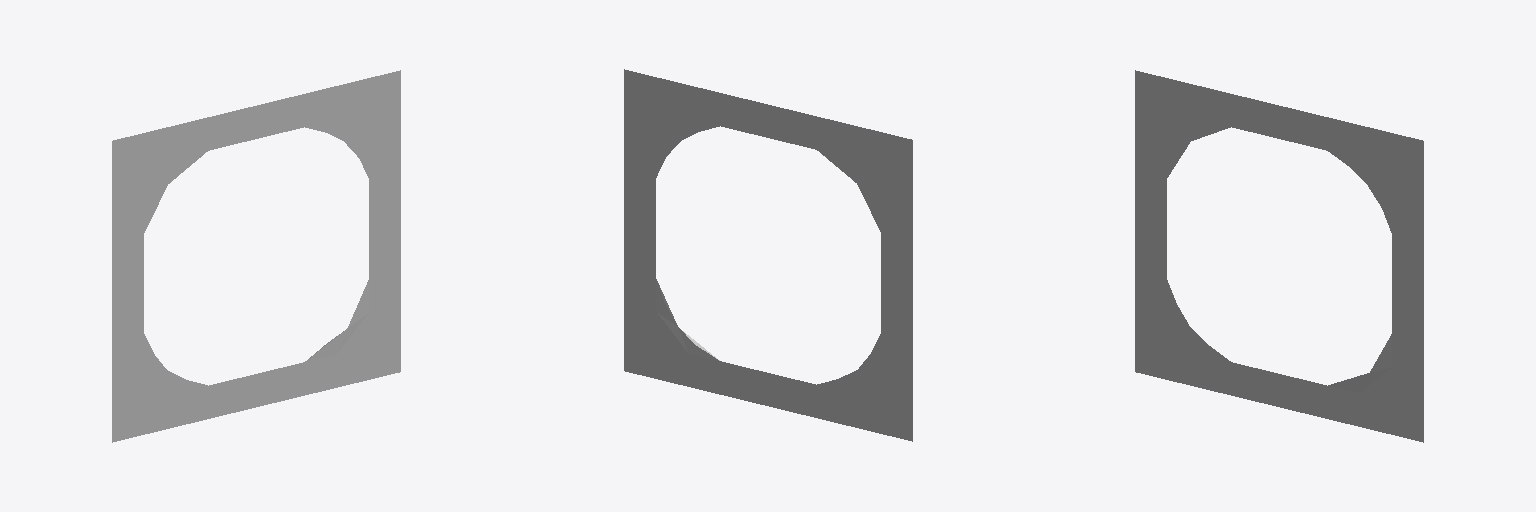
The model's file is zodiacRing.obj.
3 views of the same model, side by side, from view 1: azimuth 30°, elevation 25°; view 2: azimuth 150°, elevation 25°; view 3: azimuth 330°, elevation 25° (orthographic).
Size of the model in its own units: 7.25 by 7.25 by 0.0746.